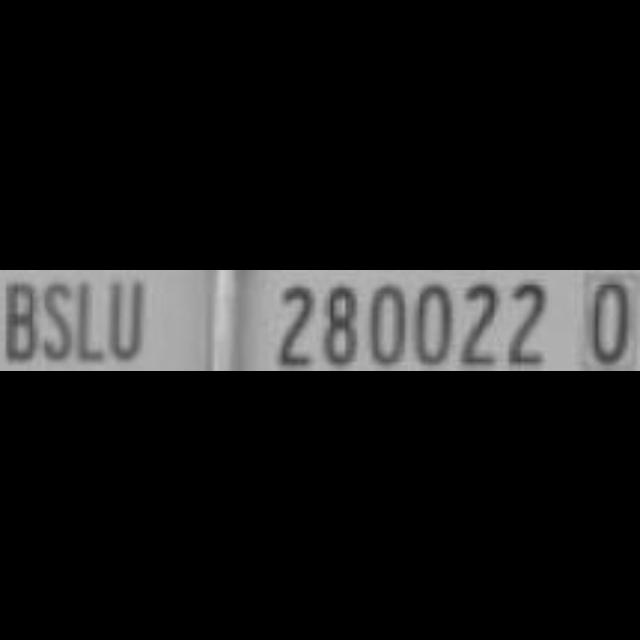0: (586, 270, 640, 370), (368, 276, 408, 368), (414, 274, 454, 366)
2: (506, 270, 550, 370), (460, 274, 500, 370), (276, 276, 316, 370)
8: (322, 275, 362, 369)
b: (0, 269, 38, 367)
l: (76, 274, 108, 370)
s: (40, 270, 76, 370)
u: (105, 270, 149, 370)
